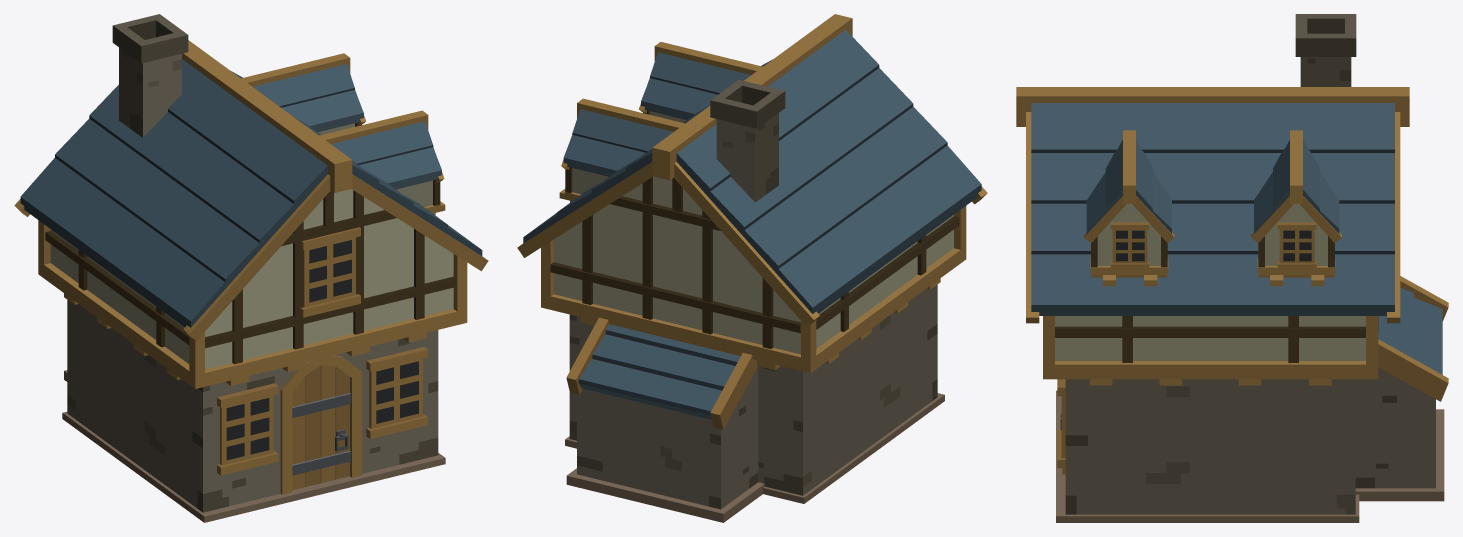
File: SF_Bld_House_Blue_03.fbx
3 views of the same model, side by side, from view 1: azimuth 30°, elevation 25°; view 2: azimuth 150°, elevation 25°; view 3: azimuth 270°, elevation 25° (orthographic). The views are drawn at different scales.
Parts seen in each view (by area): view 1: SF_Bld_House_Blue_03; view 2: SF_Bld_House_Blue_03; view 3: SF_Bld_House_Blue_03.
Part boxes in pixels (<box>): SF_Bld_House_Blue_03: <box>14,14,488,522</box>; SF_Bld_House_Blue_03: <box>517,14,987,522</box>; SF_Bld_House_Blue_03: <box>1016,14,1448,522</box>.
Size of the model in its own units: 9.95 by 12.17 by 11.66.
